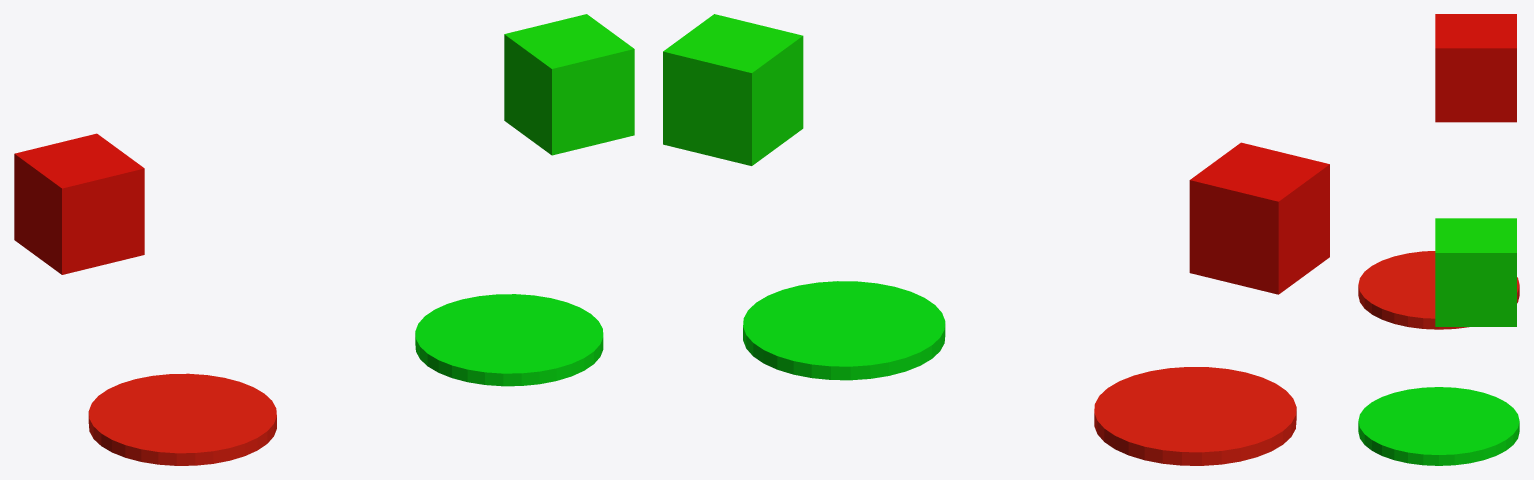
File: gameoverorreplay.glb
3 views of the same model, side by side, from view 1: azimuth 30°, elevation 25°; view 2: azimuth 150°, elevation 25°; view 3: azimuth 270°, elevation 25° (orthographic). The views are drawn at different scales.
Visible parts, largest first — view 1: hidden_gameover, hidden_replay, trigger_replay, trigger_gameover; view 2: hidden_replay, hidden_gameover, trigger_replay, trigger_gameover; view 3: trigger_replay, hidden_gameover, hidden_replay, trigger_gameover.
Boxes of the visible parts, left/top/right/bottom form: hidden_gameover: left=14, top=133, right=144, bottom=274; hidden_replay: left=504, top=14, right=634, bottom=155; trigger_replay: left=415, top=294, right=603, bottom=386; trigger_gameover: left=88, top=373, right=276, bottom=465; hidden_replay: left=663, top=14, right=803, bottom=165; hidden_gameover: left=1189, top=142, right=1329, bottom=294; trigger_replay: left=743, top=281, right=945, bottom=380; trigger_gameover: left=1094, top=367, right=1296, bottom=465; trigger_replay: left=1358, top=387, right=1519, bottom=465; hidden_gameover: left=1435, top=14, right=1516, bottom=122; hidden_replay: left=1435, top=218, right=1516, bottom=326; trigger_gameover: left=1358, top=251, right=1519, bottom=329.
Bounding box in the file's own units: 7.01 × 3.15 × 2.
